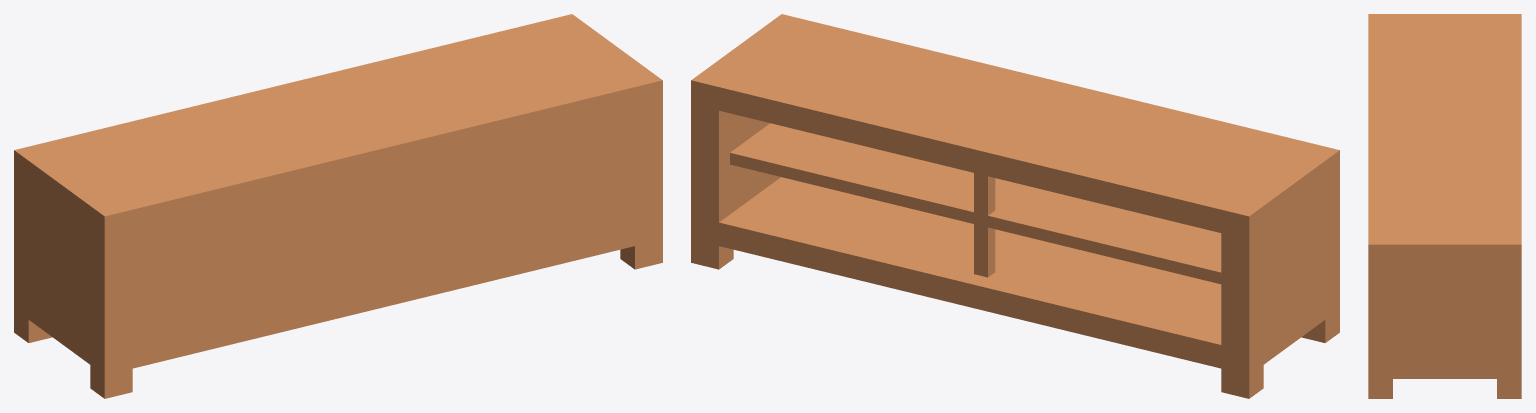
Rendered from furn-tv-cabinet-lowboard.glb.
3 renders of one model, left to right at view 1: azimuth 30°, elevation 25°; view 2: azimuth 150°, elevation 25°; view 3: azimuth 270°, elevation 25°, orthographic. The views are drawn at different scales.
Visible parts, largest first — view 1: cabinetTelevision; view 2: cabinetTelevision; view 3: cabinetTelevision.
Part boxes in pixels (<box>): cabinetTelevision: <box>14,14,662,398</box>; cabinetTelevision: <box>691,14,1339,398</box>; cabinetTelevision: <box>1368,14,1521,398</box>.
Bounding box in the file's own units: 1.6 × 0.5 × 0.45.
